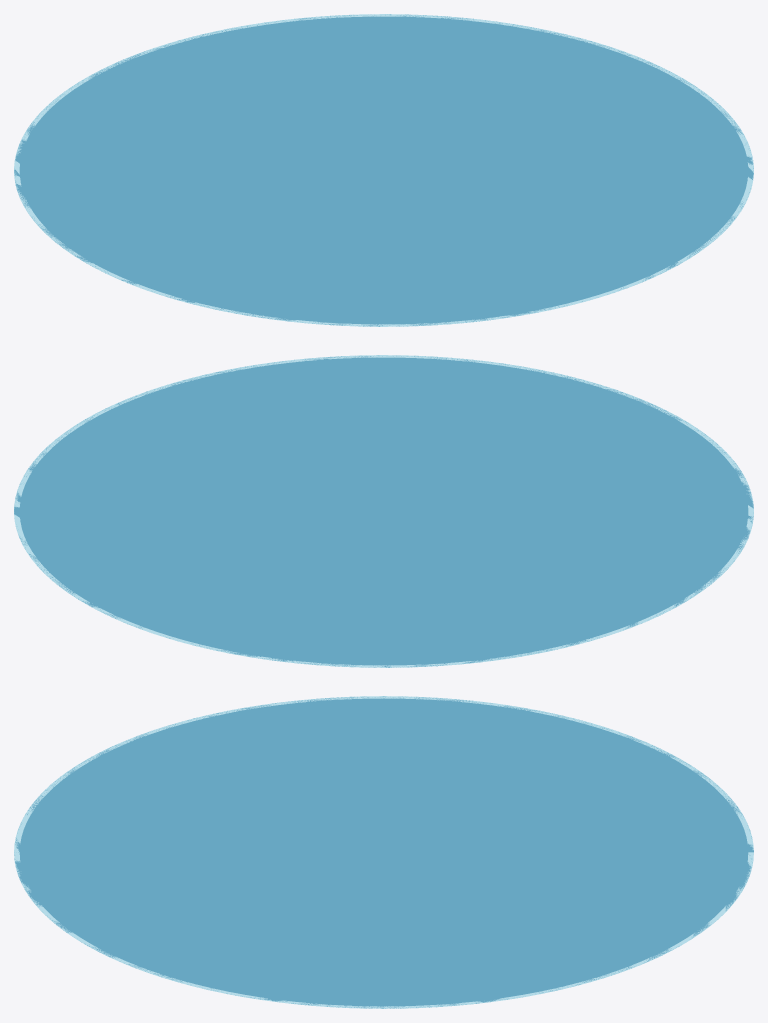
3 renders of one model, top to bottom at view 1: azimuth 30°, elevation 25°; view 2: azimuth 150°, elevation 25°; view 3: azimuth 270°, elevation 25°, orthographic.
Bounding box in the file's own units: 13 × 0 × 13.
2 materials, 2 textured.
